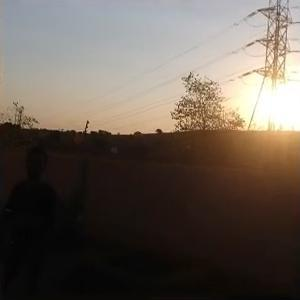follow: (1, 144, 68, 299)
